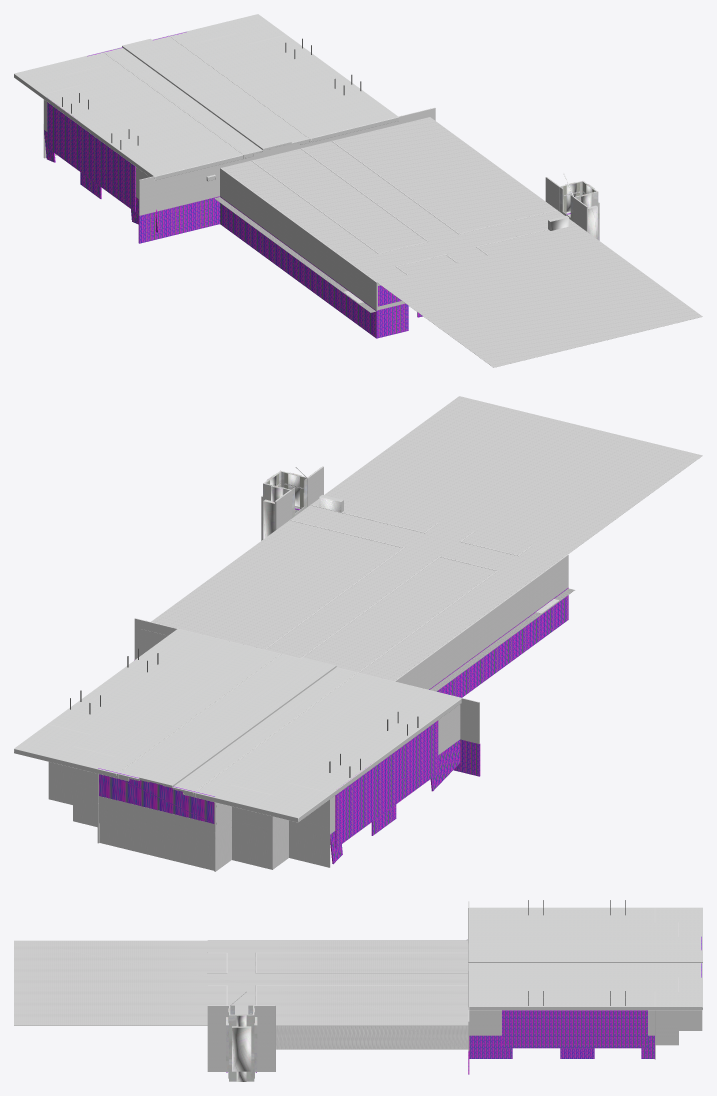
3 renders of one model, top to bottom at view 1: azimuth 30°, elevation 25°; view 2: azimuth 150°, elevation 25°; view 3: azimuth 270°, elevation 25°, orthographic. The views are drawn at different scales.
Parts seen in each view (by area): view 1: Shape_RR_Box_d83e5884478346878a85e446d30fdaeb, Shape_RR_Box_12732fea3ebe415886e017f09a9cfe1f, Shape_RR_Box_22d2619504984194b920ba01f2d0bf0b, Shape_RR_Box_144402b271b44db5a89cb4854724978f, Shape_RR_Box_d0877bcba92e494c8454be31443dad4b, Shape_RR_Box_c987ec51a0354f8fbb3e8e06cce225a4, Shape_RR_Box_c0c49ce67cd4421d9f5e782c2b6d13fd, Shape_RR_Box_1f823551a06e4fa79f526c12a3183706, Shape_RR_Box_29a161275ce04d358f5749a6fdace391, Shape_RR_Box_23404332b6d44a75be350ab24073a5f6, Shape_RR_Box_c2ce0ff0c0d64219befc88191944e149, Shape_RR_Box_8de1092cf8ed49dc80976576c814a4bb (+2 smaller); view 2: Shape_RR_Box_d83e5884478346878a85e446d30fdaeb, Shape_RR_Box_12732fea3ebe415886e017f09a9cfe1f, Shape_RR_Box_22d2619504984194b920ba01f2d0bf0b, Shape_RR_Box_d0877bcba92e494c8454be31443dad4b, Shape_RR_Box_c987ec51a0354f8fbb3e8e06cce225a4, Shape_RR_Box_144402b271b44db5a89cb4854724978f, Shape_RR_Box_29a161275ce04d358f5749a6fdace391, Shape_RR_Box_c0c49ce67cd4421d9f5e782c2b6d13fd, Shape_RR_Box_0a1672c24b494448a44187360dfde7ae, Shape_RR_Box_23404332b6d44a75be350ab24073a5f6, Shape_RR_Box_b42b56424b054b6eb2ca607e0d8b18d1, Shape_RR_Box_469838676fea4a599e1cb89c4c743da1 (+11 smaller); view 3: Shape_RR_Box_d83e5884478346878a85e446d30fdaeb, Shape_RR_Box_22d2619504984194b920ba01f2d0bf0b, Shape_RR_Box_12732fea3ebe415886e017f09a9cfe1f, Shape_RR_Box_9fc5eaf4269147f8b0290792552e8dec, Shape_RR_Box_8de1092cf8ed49dc80976576c814a4bb, Shape_RR_Box_d0877bcba92e494c8454be31443dad4b, Shape_RR_Box_23404332b6d44a75be350ab24073a5f6, Shape_RR_Box_29a161275ce04d358f5749a6fdace391, Shape_CURVE_Tube_f15308295dda413b93850a6c1ea7777b, Shape_RR_Box_d6b0a2b6e53f4c52a5b88b5435308169, Shape_RR_Box_5ffdec487f16495da7c71e42b86aa7bb, Shape_RR_Box_641ab0380c4c43eaa2b9e55c6831a81f (+10 smaller).
Part boxes in pixels (bbox=[...]): Shape_RR_Box_d83e5884478346878a85e446d30fdaeb: bbox=[222, 117, 702, 367]; Shape_RR_Box_12732fea3ebe415886e017f09a9cfe1f: bbox=[14, 52, 243, 180]; Shape_RR_Box_22d2619504984194b920ba01f2d0bf0b: bbox=[170, 14, 398, 142]; Shape_RR_Box_144402b271b44db5a89cb4854724978f: bbox=[220, 168, 377, 310]; Shape_RR_Box_d0877bcba92e494c8454be31443dad4b: bbox=[122, 38, 291, 150]; Shape_RR_Box_c987ec51a0354f8fbb3e8e06cce225a4: bbox=[47, 102, 135, 211]; Shape_RR_Box_c0c49ce67cd4421d9f5e782c2b6d13fd: bbox=[220, 196, 377, 338]; Shape_RR_Box_1f823551a06e4fa79f526c12a3183706: bbox=[139, 160, 219, 215]; Shape_RR_Box_29a161275ce04d358f5749a6fdace391: bbox=[104, 47, 262, 155]; Shape_RR_Box_23404332b6d44a75be350ab24073a5f6: bbox=[152, 36, 309, 144]; Shape_RR_Box_c2ce0ff0c0d64219befc88191944e149: bbox=[138, 196, 219, 243]; Shape_RR_Box_8de1092cf8ed49dc80976576c814a4bb: bbox=[214, 197, 375, 312]; Shape_RR_Box_d83e5884478346878a85e446d30fdaeb: bbox=[141, 396, 702, 681]; Shape_RR_Box_12732fea3ebe415886e017f09a9cfe1f: bbox=[195, 673, 461, 822]; Shape_RR_Box_22d2619504984194b920ba01f2d0bf0b: bbox=[14, 629, 279, 778]; Shape_RR_Box_d0877bcba92e494c8454be31443dad4b: bbox=[139, 657, 336, 787]; Shape_RR_Box_c987ec51a0354f8fbb3e8e06cce225a4: bbox=[335, 720, 438, 847]; Shape_RR_Box_144402b271b44db5a89cb4854724978f: bbox=[394, 554, 568, 689]; Shape_RR_Box_29a161275ce04d358f5749a6fdace391: bbox=[172, 667, 356, 794]; Shape_RR_Box_c0c49ce67cd4421d9f5e782c2b6d13fd: bbox=[429, 587, 568, 697]; Shape_RR_Box_0a1672c24b494448a44187360dfde7ae: bbox=[99, 796, 214, 851]; Shape_RR_Box_23404332b6d44a75be350ab24073a5f6: bbox=[118, 654, 300, 780]; Shape_RR_Box_b42b56424b054b6eb2ca607e0d8b18d1: bbox=[98, 768, 214, 823]; Shape_RR_Box_469838676fea4a599e1cb89c4c743da1: bbox=[99, 823, 214, 870]; Shape_RR_Box_d83e5884478346878a85e446d30fdaeb: bbox=[14, 940, 468, 1025]; Shape_RR_Box_22d2619504984194b920ba01f2d0bf0b: bbox=[468, 971, 702, 1010]; Shape_RR_Box_12732fea3ebe415886e017f09a9cfe1f: bbox=[468, 907, 702, 943]; Shape_RR_Box_9fc5eaf4269147f8b0290792552e8dec: bbox=[502, 1010, 647, 1048]; Shape_RR_Box_8de1092cf8ed49dc80976576c814a4bb: bbox=[276, 1026, 468, 1049]; Shape_RR_Box_d0877bcba92e494c8454be31443dad4b: bbox=[468, 950, 702, 962]; Shape_RR_Box_23404332b6d44a75be350ab24073a5f6: bbox=[468, 963, 702, 970]; Shape_RR_Box_29a161275ce04d358f5749a6fdace391: bbox=[468, 944, 702, 950]; Shape_CURVE_Tube_f15308295dda413b93850a6c1ea7777b: bbox=[232, 1026, 251, 1071]; Shape_RR_Box_d6b0a2b6e53f4c52a5b88b5435308169: bbox=[469, 1035, 512, 1058]; Shape_RR_Box_5ffdec487f16495da7c71e42b86aa7bb: bbox=[469, 1010, 501, 1035]; Shape_RR_Box_641ab0380c4c43eaa2b9e55c6831a81f: bbox=[655, 1022, 677, 1045].
Bounding box in the file's own units: 38.24 × 11.23 × 86.06.
